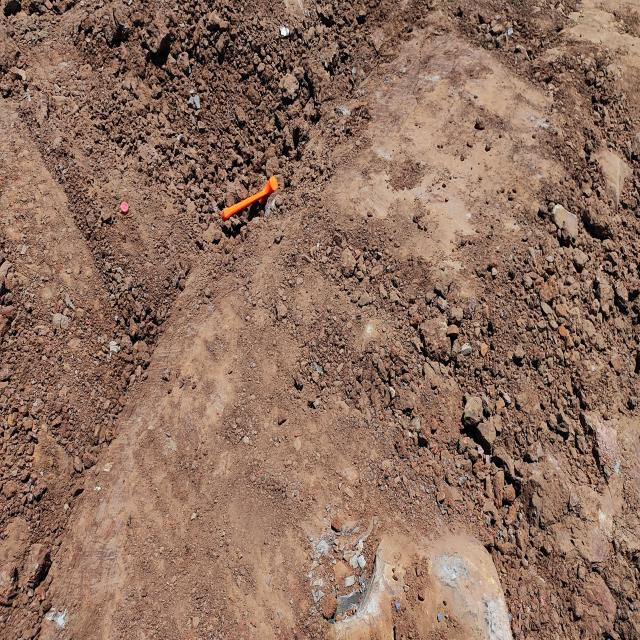Orange_hammer: (220, 175, 278, 221)
